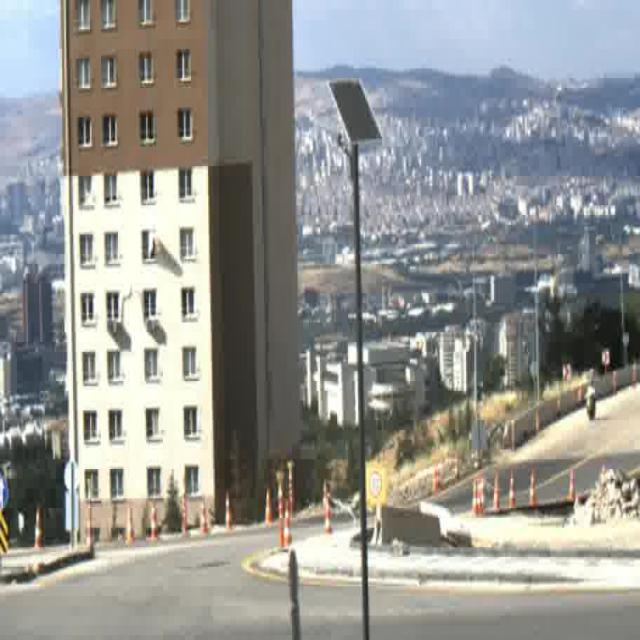Motorcycle: (584, 380, 597, 420)
